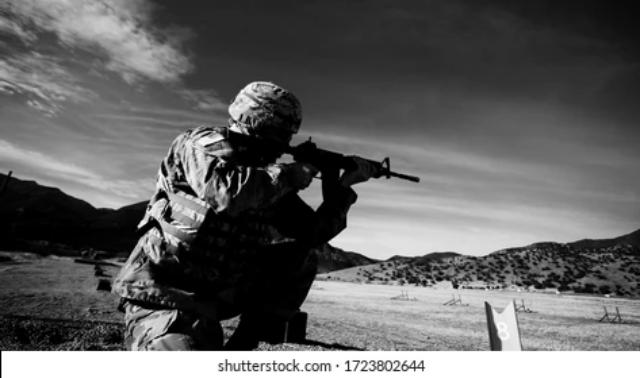other: (132, 86, 344, 340)
